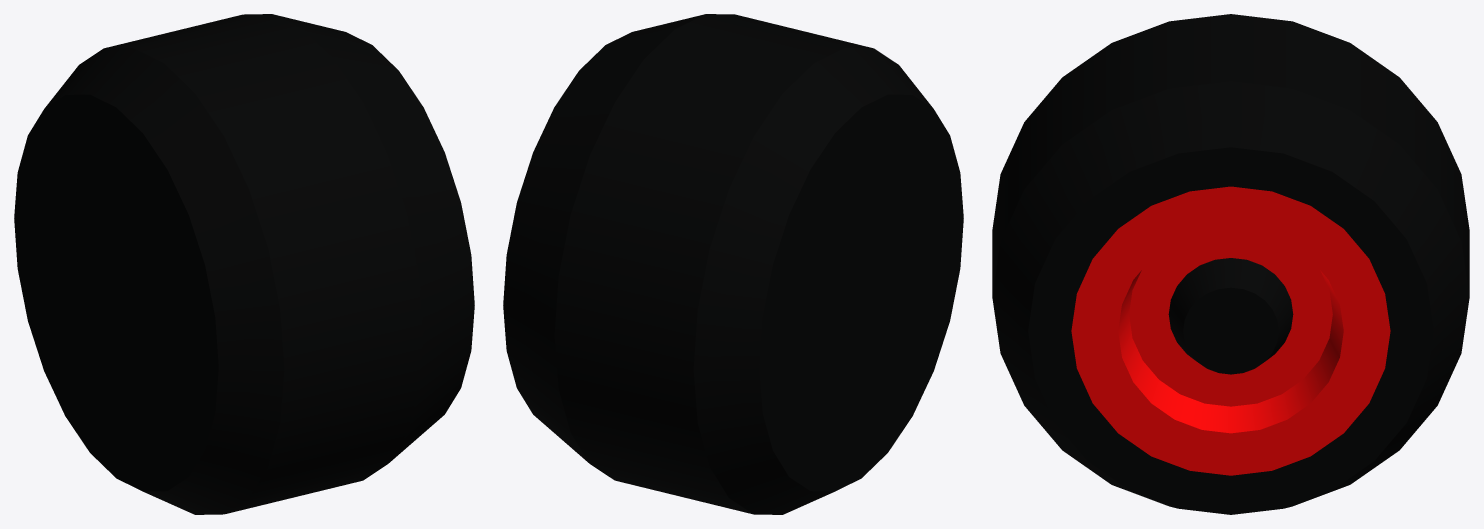
File: wheel-tractor-back.glb
The picture shows the model from 3 angles, left to right: view 1: azimuth 30°, elevation 25°; view 2: azimuth 150°, elevation 25°; view 3: azimuth 270°, elevation 25°; orthographic projection.
Parts seen in each view (by area): view 1: wheel-tractor-back; view 2: wheel-tractor-back; view 3: wheel-tractor-back.
Part boxes in pixels (bbox=[...]): wheel-tractor-back: bbox=[14, 14, 474, 514]; wheel-tractor-back: bbox=[503, 14, 963, 514]; wheel-tractor-back: bbox=[992, 14, 1469, 514].
Size of the model in its own units: 0.5374 by 0.8752 by 0.8752.
Materials: 1 (1 with a texture image).
